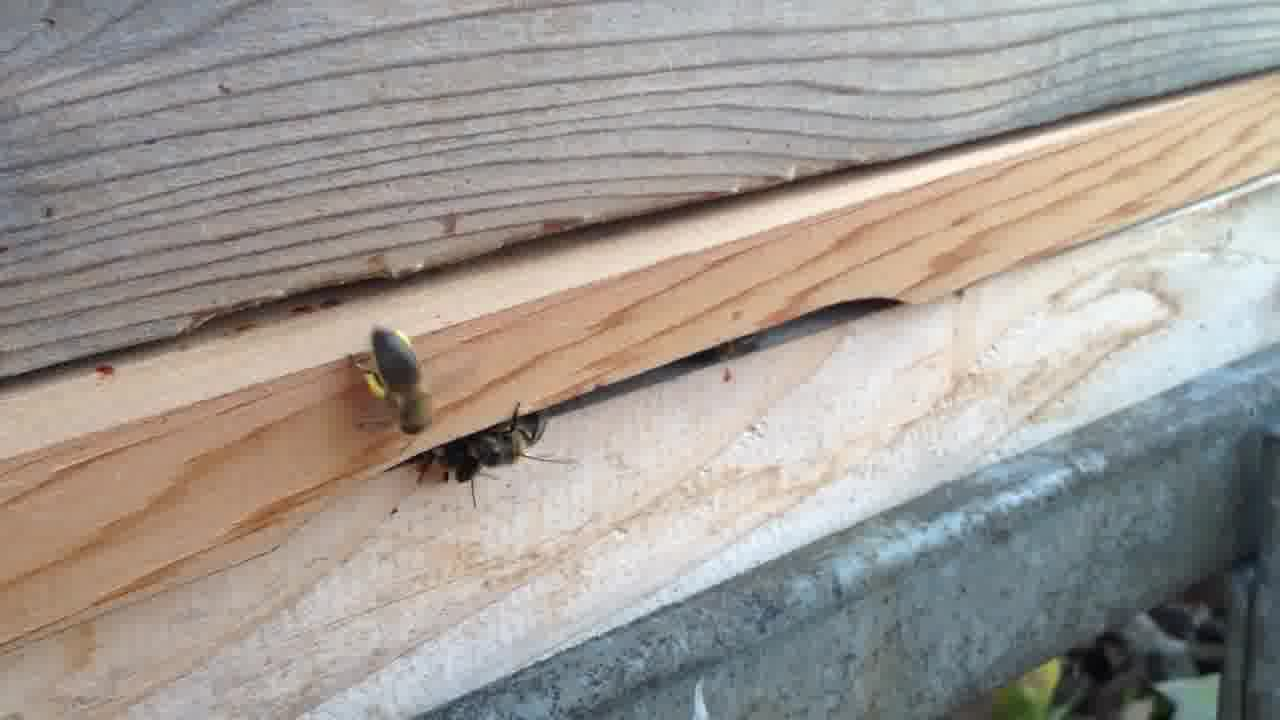pollen: (345, 325, 445, 444)
